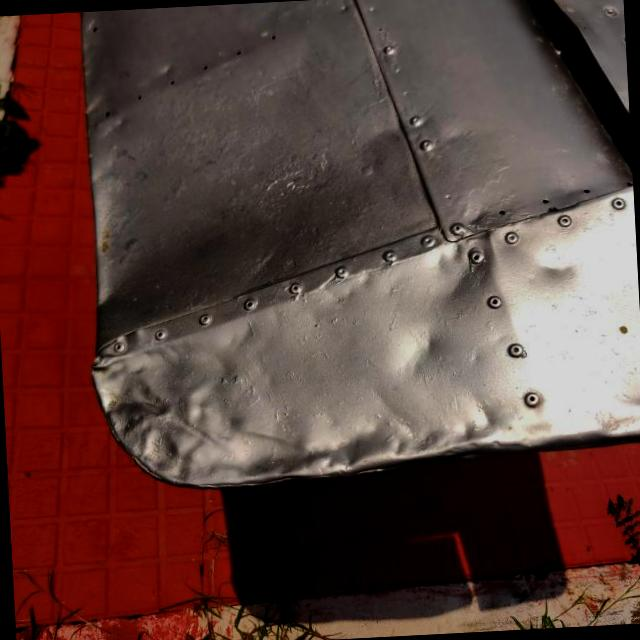dent: (233, 388, 640, 495), (80, 319, 272, 503), (420, 232, 510, 322), (376, 313, 461, 394), (520, 236, 592, 305)
